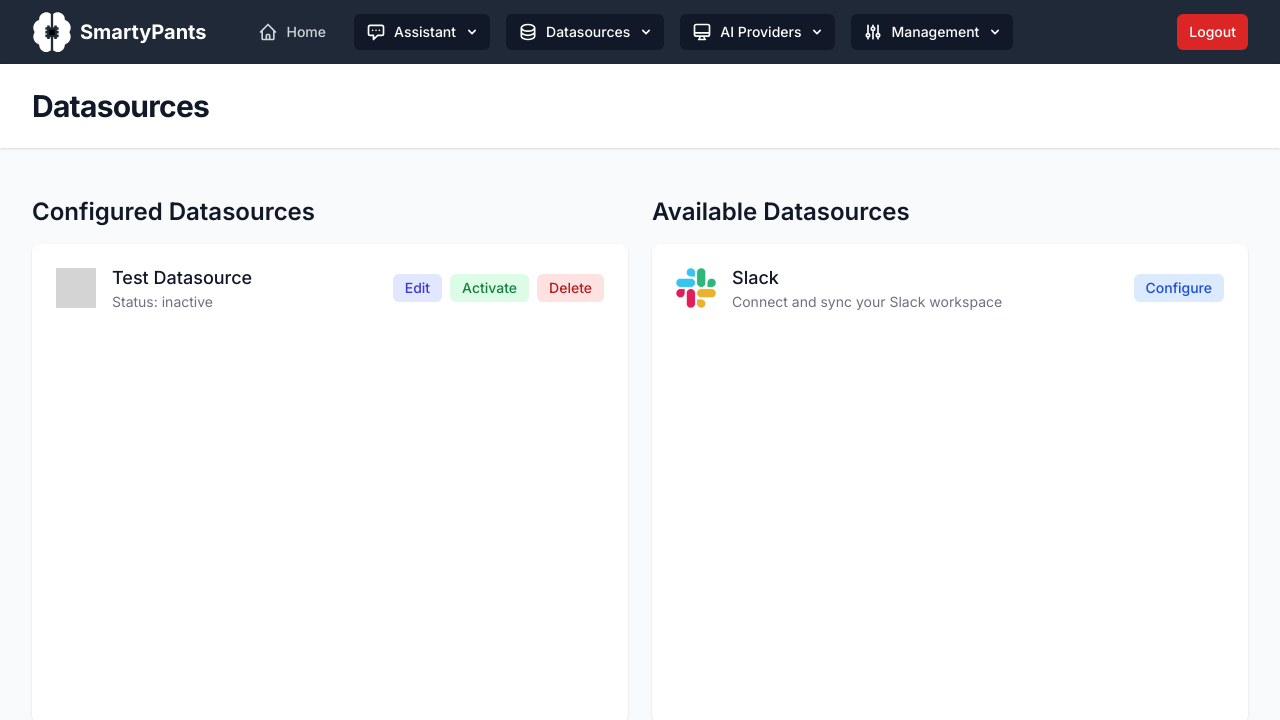
Test: DatasourcesPage › handles activate datasource
Expected: the heading "Test Datasource" is shown, [112,264,252,292]
Click the button "Activate".
click(490, 288)  # box [450,274,529,302]
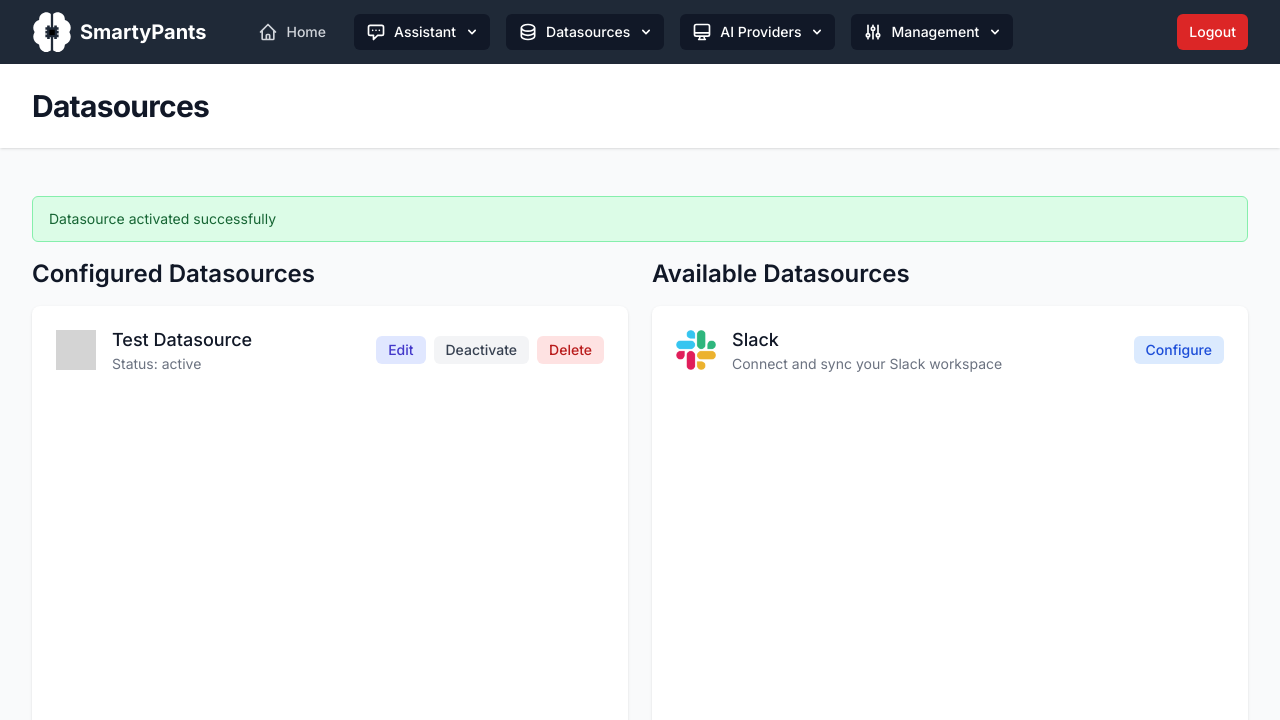
Expected: the text "Datasource activated successfully" is shown, [49,210,276,227]
